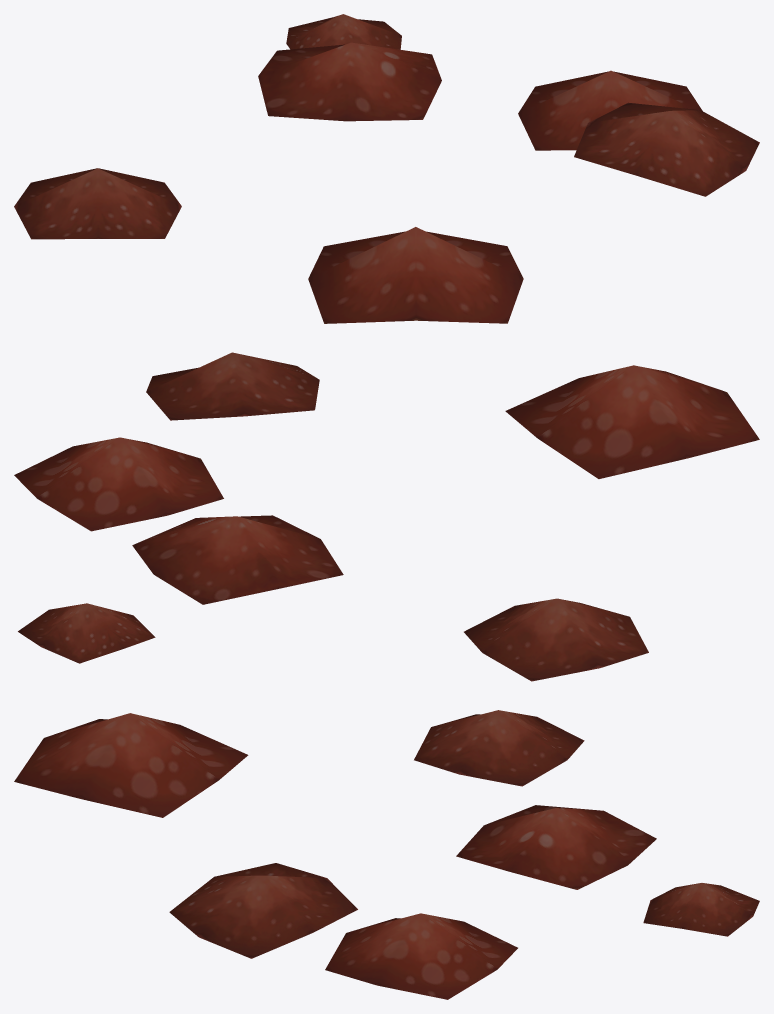
The model's file is Mushroom_Cluster_01.fbx.
3 views of the same model, one above another, from view 1: azimuth 30°, elevation 25°; view 2: azimuth 150°, elevation 25°; view 3: azimuth 270°, elevation 25° (orthographic). The views are drawn at different scales.
Parts seen in each view (by area): view 1: Mushroom_Cluster_01; view 2: Mushroom_Cluster_01; view 3: Mushroom_Cluster_01.
Part boxes in pixels (box(x1,y1,x2,y2)): Mushroom_Cluster_01: box(14, 14, 759, 323); Mushroom_Cluster_01: box(14, 352, 759, 681); Mushroom_Cluster_01: box(14, 710, 759, 999).
Size of the model in its own units: 1.38 by 0.2035 by 1.49.
Materials: 1 (1 with a texture image).
